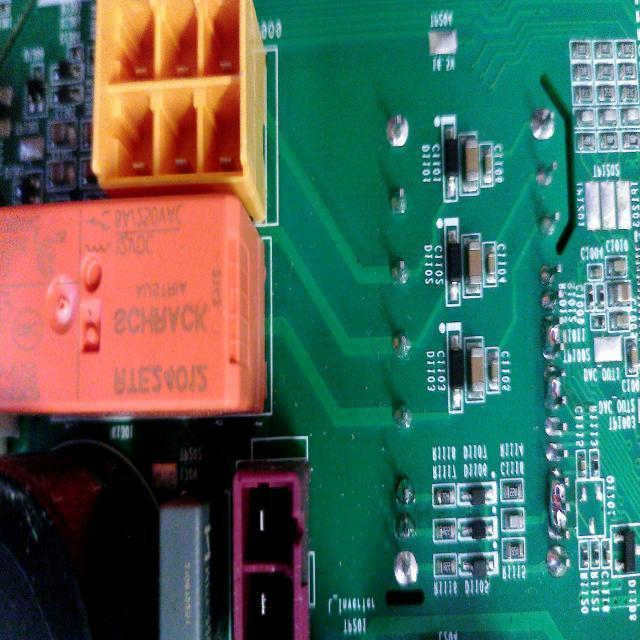Soldering bridge: (543, 465, 573, 545), (538, 303, 568, 363), (540, 355, 567, 415)
